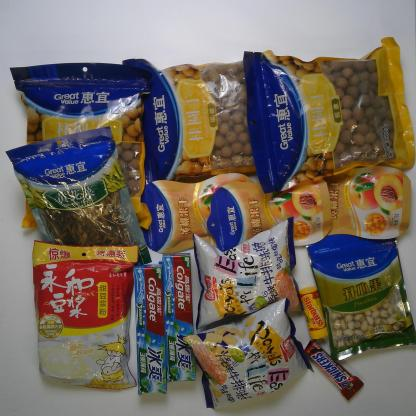Candy: (298, 286, 328, 340)
Chocolate: (305, 338, 365, 401)
Dried Food: (243, 35, 416, 195), (9, 62, 154, 232), (122, 49, 276, 186), (5, 126, 153, 268)
Dried Fruit: (306, 230, 416, 362), (206, 171, 334, 252), (139, 172, 259, 255), (282, 164, 412, 240)
Instant Drink: (32, 238, 137, 390)
Personal Hygiene: (133, 261, 168, 396), (162, 252, 197, 382)
Puffed Food: (183, 296, 316, 410), (192, 215, 304, 333)
